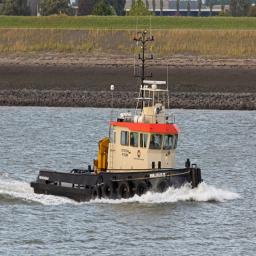tugboat: (30, 80, 208, 210)
